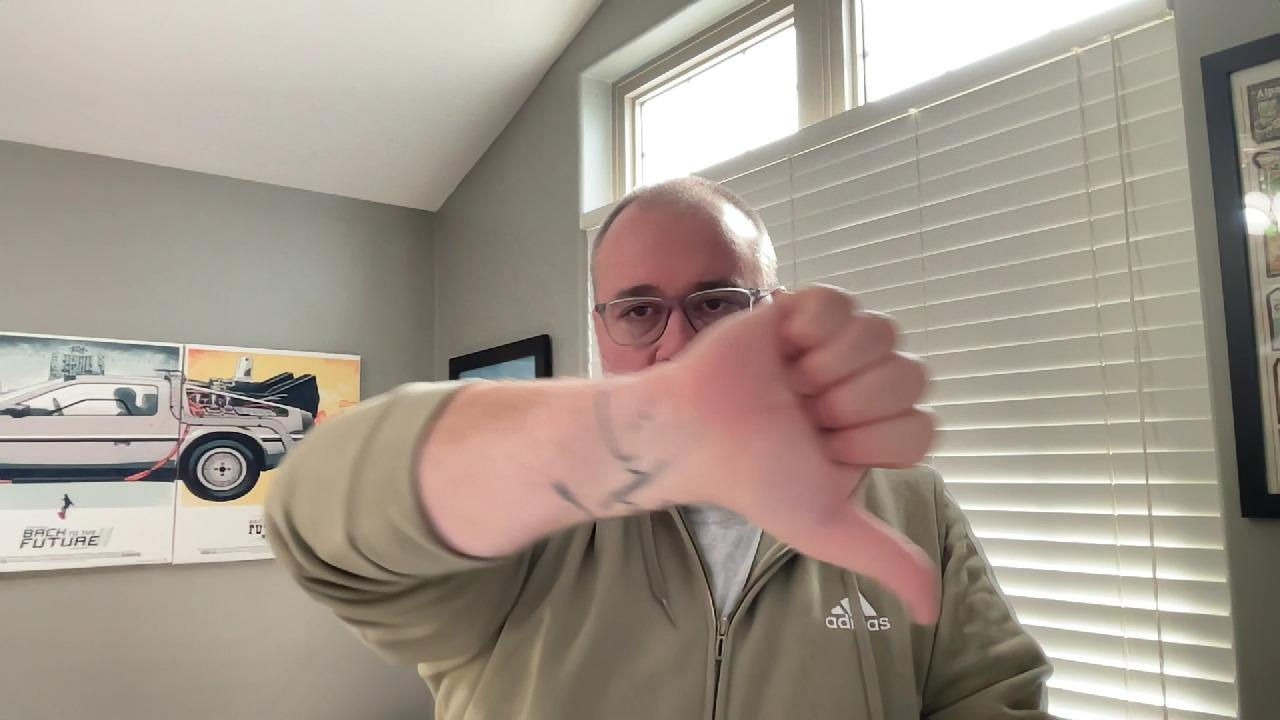face: (592, 211, 765, 377)
